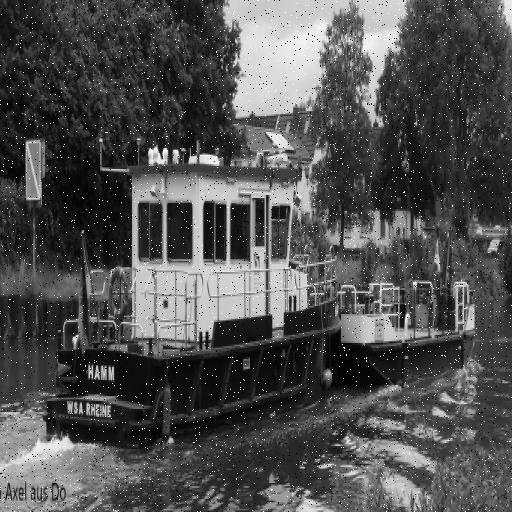tugboat: (41, 132, 347, 463)
